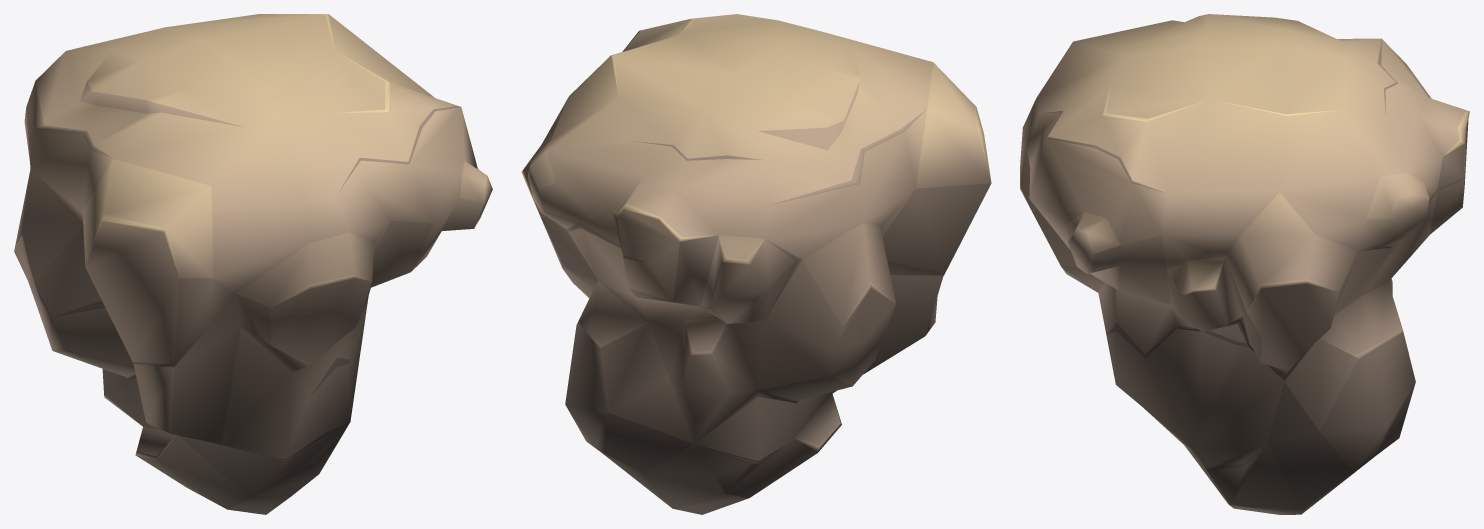
File: rockExtraLrg.fbx
The picture shows the model from 3 angles, left to right: view 1: azimuth 30°, elevation 25°; view 2: azimuth 150°, elevation 25°; view 3: azimuth 270°, elevation 25°; orthographic projection. The views are drawn at different scales.
Visible parts, largest first — view 1: rockExtraLrg; view 2: rockExtraLrg; view 3: rockExtraLrg.
Boxes of the visible parts, <box> form: rockExtraLrg: <box>14,14,492,514</box>; rockExtraLrg: <box>521,14,991,514</box>; rockExtraLrg: <box>1020,14,1469,514</box>.
Bounding box in the file's own units: 2299 × 2544 × 2298.
